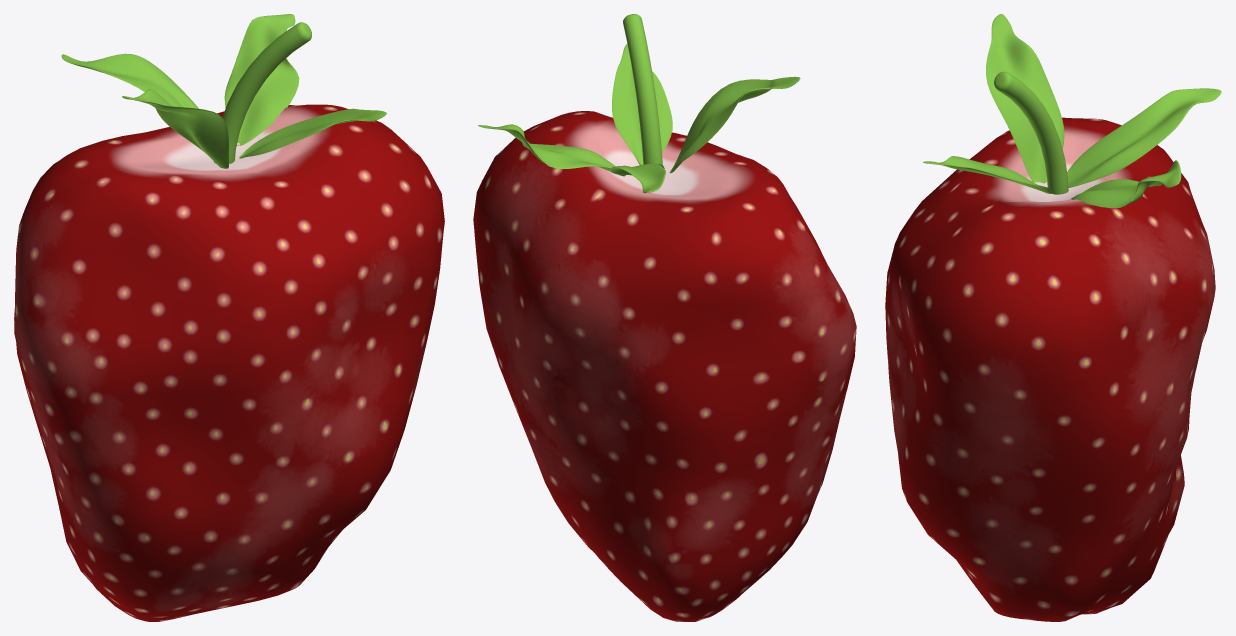
File: strawberry.gltf
3 renders of one model, left to right at view 1: azimuth 30°, elevation 25°; view 2: azimuth 150°, elevation 25°; view 3: azimuth 270°, elevation 25°, orthographic. The views are drawn at different scales.
Visible parts, largest first — view 1: Strawberry, Hat; view 2: Strawberry, Hat; view 3: Strawberry, Hat.
Part boxes in pixels (x1,y1,x2,y2): Strawberry: [14, 104, 444, 621]; Hat: [61, 14, 386, 168]; Strawberry: [473, 111, 856, 621]; Hat: [478, 14, 800, 193]; Strawberry: [885, 117, 1215, 621]; Hat: [923, 14, 1221, 208].
Size of the model in its own units: 0.4281 by 0.6274 by 0.327.
2 materials, 1 textured.
